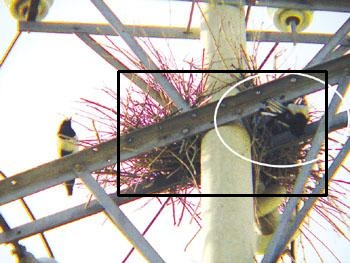bird-nest: (116, 75, 314, 170)
